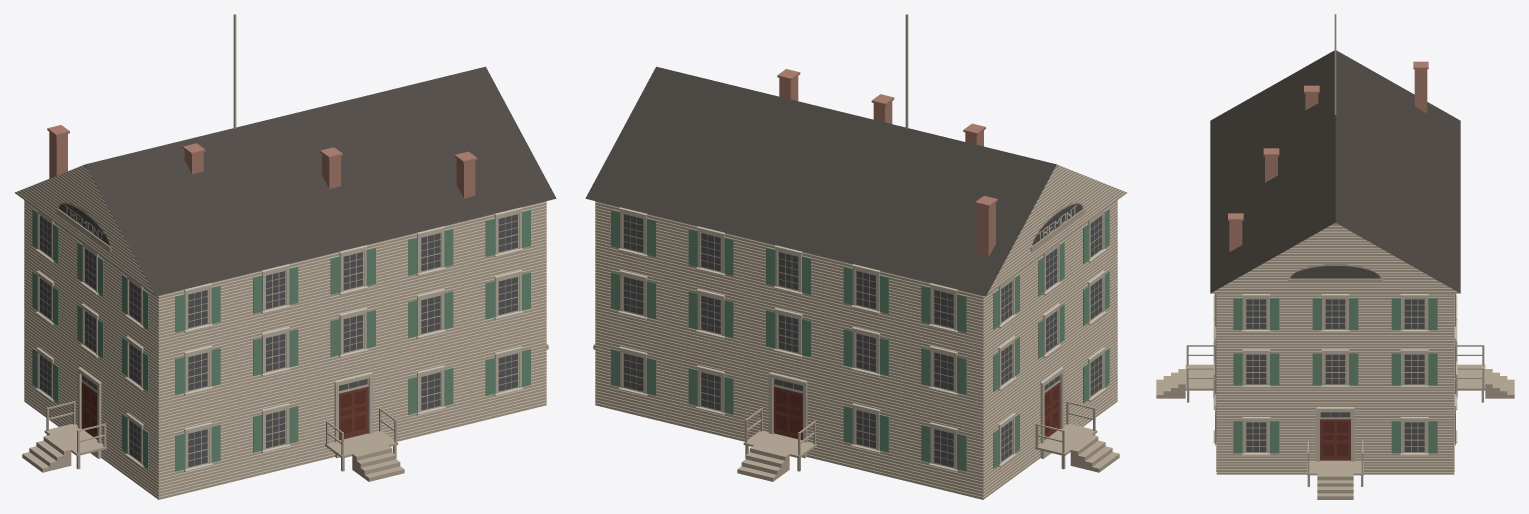
File: tremont_house_1__frame_1833.glb
3 renders of one model, left to right at view 1: azimuth 30°, elevation 25°; view 2: azimuth 150°, elevation 25°; view 3: azimuth 270°, elevation 25°, orthographic. The views are drawn at different scales.
Parts seen in each view (by area): view 1: tremont_house_1__frame_1833; view 2: tremont_house_1__frame_1833; view 3: tremont_house_1__frame_1833.
Part boxes in pixels (box(x1,y1,x2,y2)): tremont_house_1__frame_1833: box(14, 14, 556, 499); tremont_house_1__frame_1833: box(585, 14, 1127, 499); tremont_house_1__frame_1833: box(1156, 14, 1514, 499).
Size of the model in its own units: 19.88 by 15.06 by 13.78.
